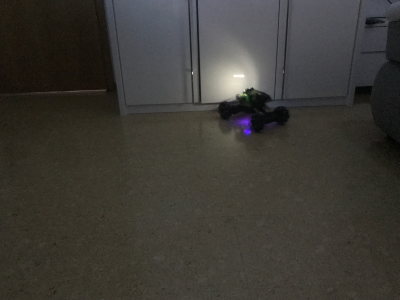remote control car: (216, 82, 292, 134)
